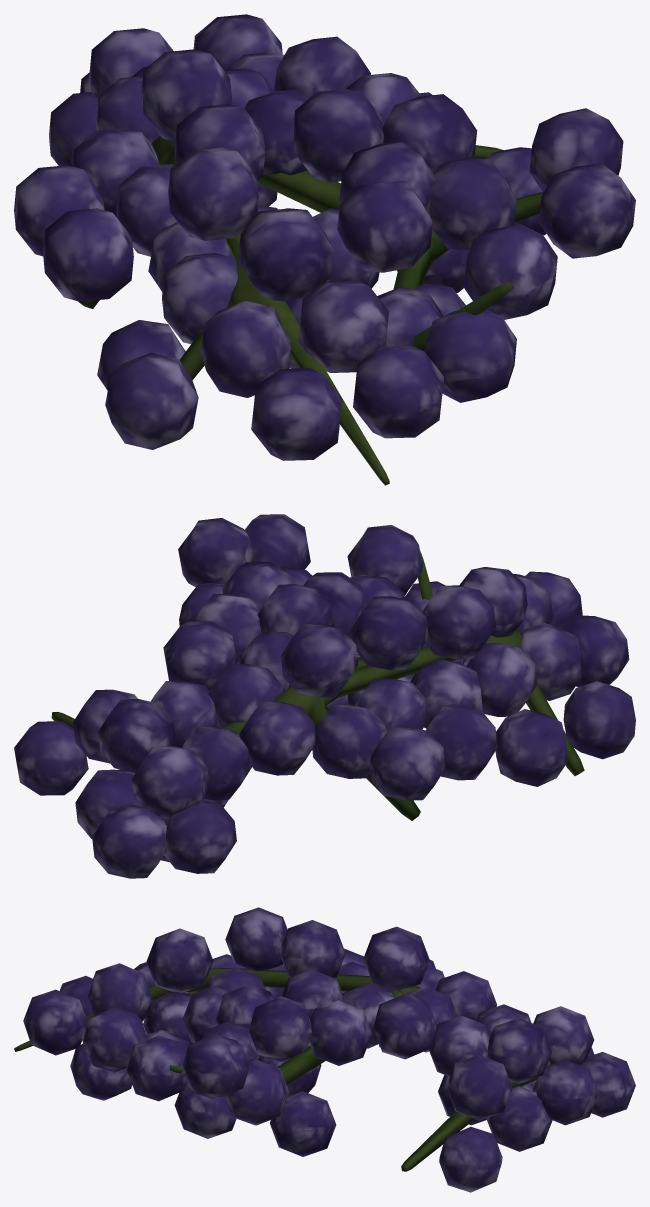
The model's file is SM_Grape.fbx.
3 views of the same model, one above another, from view 1: azimuth 30°, elevation 25°; view 2: azimuth 150°, elevation 25°; view 3: azimuth 270°, elevation 25° (orthographic). The views are drawn at different scales.
Parts seen in each view (by area): view 1: SM_Grape_LOD0; view 2: SM_Grape_LOD0; view 3: SM_Grape_LOD0.
Boxes of the visible parts, x1,y1,x2,y2 form: SM_Grape_LOD0: (14, 14, 635, 485); SM_Grape_LOD0: (14, 514, 635, 878); SM_Grape_LOD0: (14, 907, 635, 1192).
Bounding box in the file's own units: 25.3 × 35.04 × 10.58.
